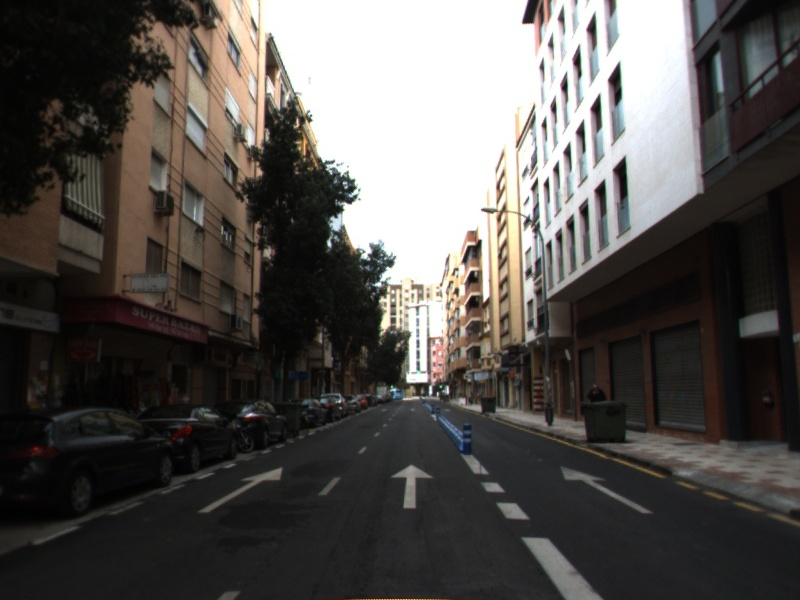STRAIGHT: (559, 464, 655, 515), (196, 466, 284, 514), (389, 463, 435, 510)
